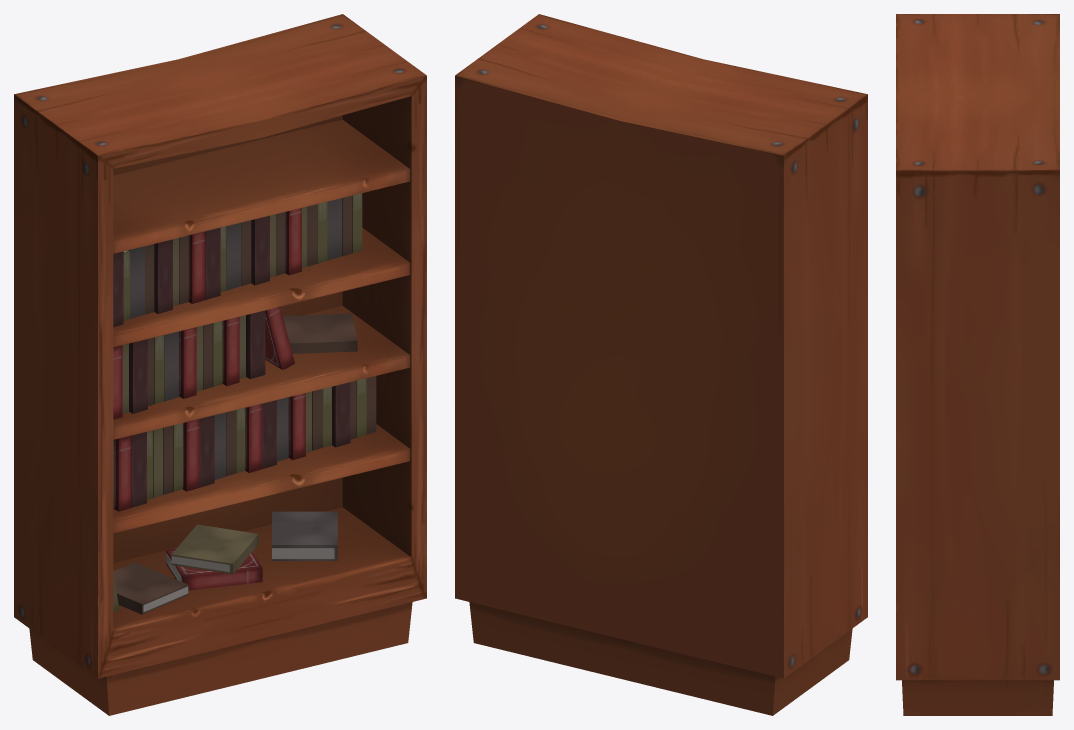
The model's file is Shelf3.fbx.
3 renders of one model, left to right at view 1: azimuth 30°, elevation 25°; view 2: azimuth 150°, elevation 25°; view 3: azimuth 270°, elevation 25°, orthographic. The views are drawn at different scales.
Visible parts, largest first — view 1: Object003; view 2: Object003; view 3: Object003.
Part boxes in pixels (left/top/right/bottom): Object003: left=14, top=14, right=426, bottom=715; Object003: left=455, top=14, right=867, bottom=715; Object003: left=896, top=14, right=1059, bottom=715.
Size of the model in its own units: 5.3 by 2.35 by 8.73.
Materials: 2 (2 with a texture image).
